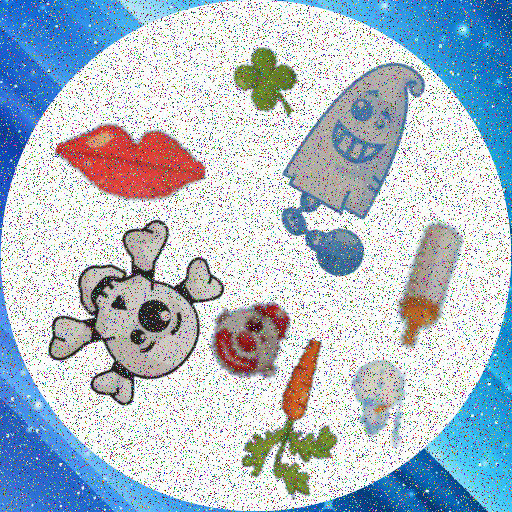bottle_icon: (359, 218, 493, 352)
carrot_icon: (203, 335, 368, 500)
cloverleaf_icon: (224, 47, 302, 125)
clown_icon: (210, 297, 297, 384)
ghost_icon: (239, 45, 472, 278)
lips_icon: (53, 94, 206, 247)
skull_icon: (31, 216, 239, 424)
snowman_icon: (340, 359, 431, 450)
